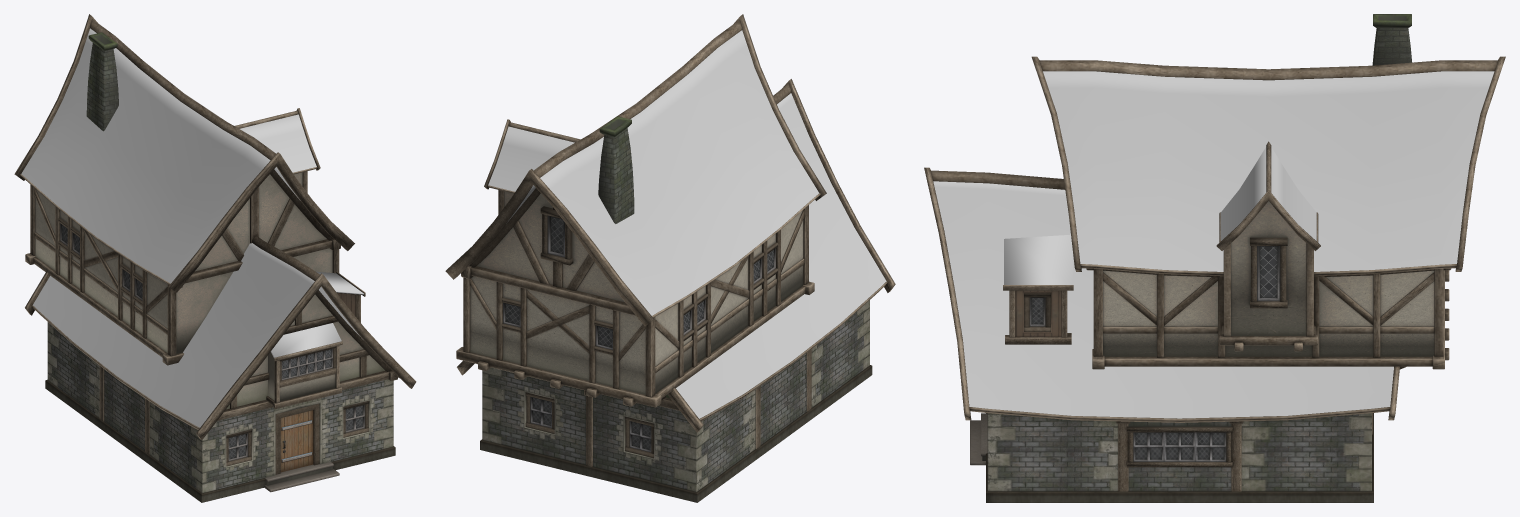
3 views of the same model, side by side, from view 1: azimuth 30°, elevation 25°; view 2: azimuth 150°, elevation 25°; view 3: azimuth 270°, elevation 25° (orthographic). The views are drawn at different scales.
Parts seen in each view (by area): view 1: Roof, Wood, WallBrick, Wall, DoorAndWindow; view 2: Roof, WallBrick, Wood, Wall, DoorAndWindow; view 3: Roof, Wood, WallBrick, Wall, DoorAndWindow.
Boxes of the visible parts, x1,y1,x2,y2 form: Roof: (21,28,363,427); Wood: (14,14,416,474); WallBrick: (45,32,395,502); Wall: (35,172,384,409); DoorAndWindow: (58,218,369,472); Roof: (488,30,886,418); WallBrick: (480,116,872,502); Wood: (445,14,895,466); Wall: (470,191,803,397); DoorAndWindow: (502,206,777,457); Roof: (933,71,1494,418); Wood: (924,56,1505,491); WallBrick: (970,14,1412,502); Wall: (1015,201,1434,356); DoorAndWindow: (1024,237,1287,467).
Bounding box in the file's own units: 8.19 × 11.46 × 14.84.
